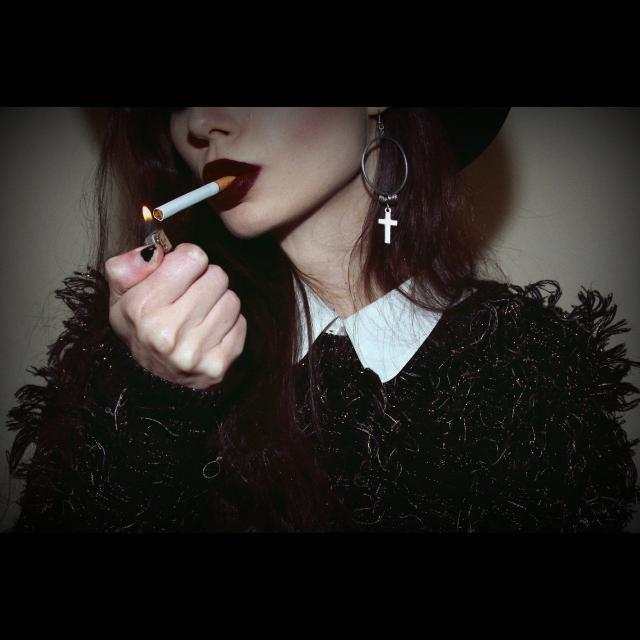rokok: (146, 170, 238, 226)
